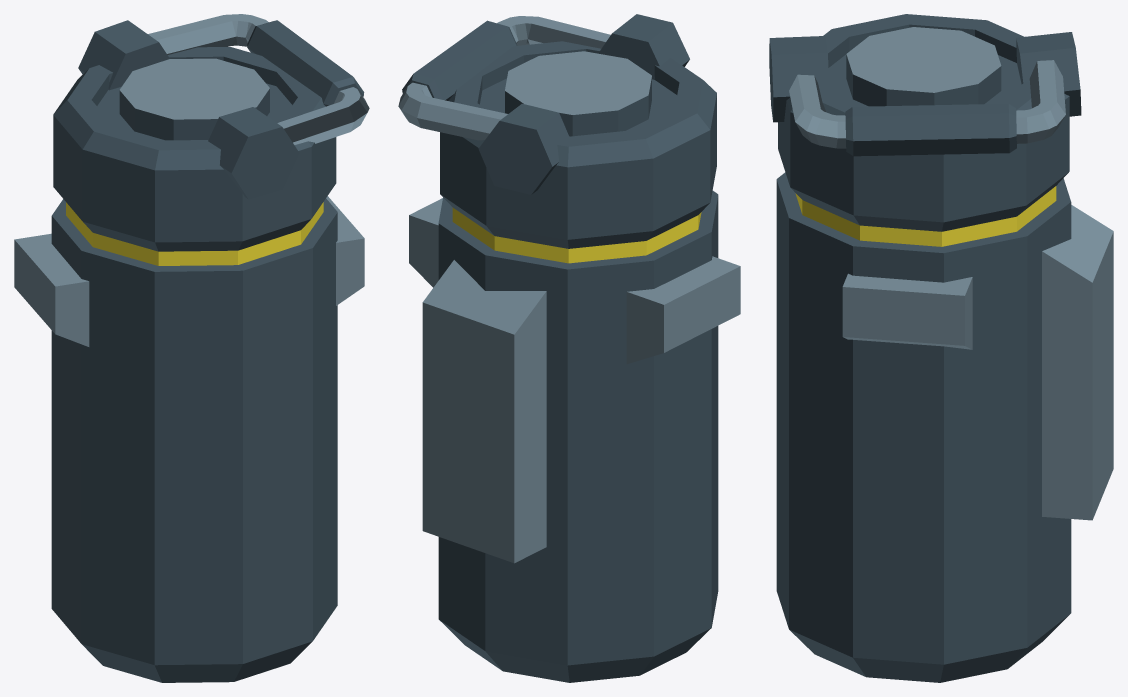
The model's file is Energy Canister.glb.
The picture shows the model from 3 angles, left to right: view 1: azimuth 30°, elevation 25°; view 2: azimuth 150°, elevation 25°; view 3: azimuth 270°, elevation 25°; orthographic projection. The views are drawn at different scales.
Visible parts, largest first — view 1: Energy Canister; view 2: Energy Canister; view 3: Energy Canister.
Boxes of the visible parts, left/top/right/bottom form: Energy Canister: left=14, top=14, right=369, bottom=682; Energy Canister: left=398, top=14, right=740, bottom=682; Energy Canister: left=769, top=14, right=1113, bottom=682.
Size of the model in its own units: 0.3031 by 0.544 by 0.2891.
